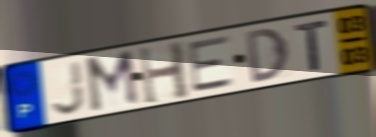D: (244, 25, 292, 85)
E: (186, 33, 237, 96)
H: (137, 39, 193, 108)
J: (49, 58, 88, 117)
M: (83, 47, 142, 116)
T: (293, 17, 331, 73)
